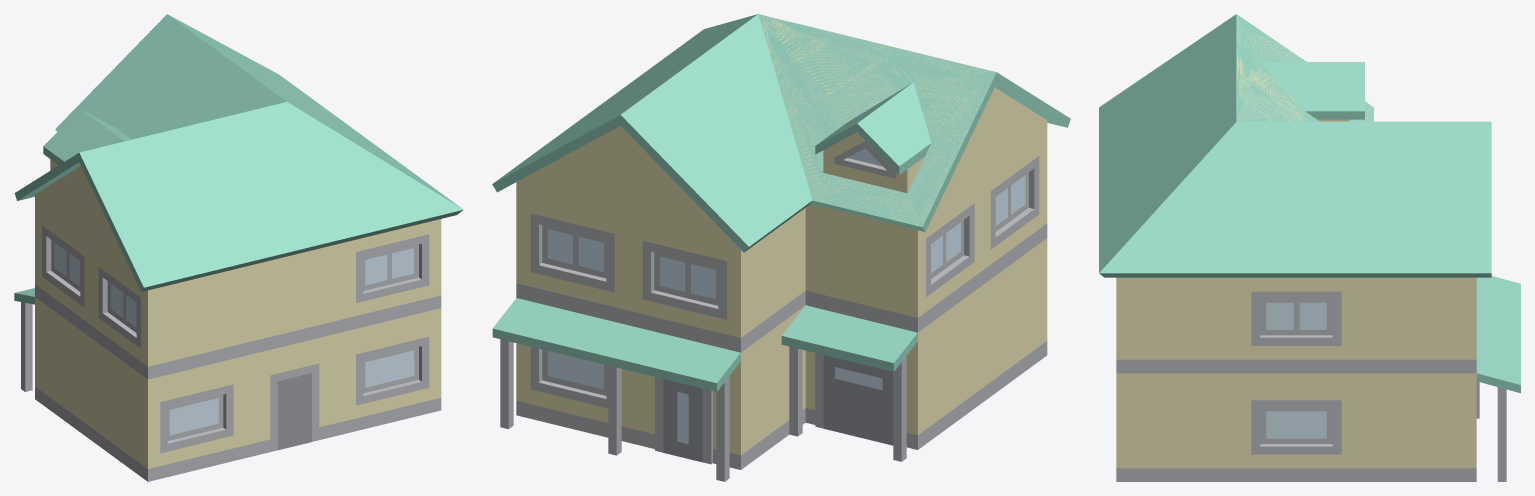
File: Protag house.fbx
3 views of the same model, side by side, from view 1: azimuth 30°, elevation 25°; view 2: azimuth 150°, elevation 25°; view 3: azimuth 270°, elevation 25° (orthographic). The views are drawn at different scales.
Parts seen in each view (by area): view 1: house_type02, house_type02.003; view 2: house_type02, house_type02.002, house_type02.001; view 3: house_type02.
Boxes of the visible parts, box(x1,y1,x2,y2) form: house_type02: box(14, 14, 463, 481); house_type02.003: box(277, 373, 311, 450); house_type02: box(492, 14, 1070, 481); house_type02.002: box(823, 355, 893, 445); house_type02.001: box(663, 379, 702, 462); house_type02: box(1099, 14, 1520, 481).
Size of the model in its own units: 131 by 114 by 141.
